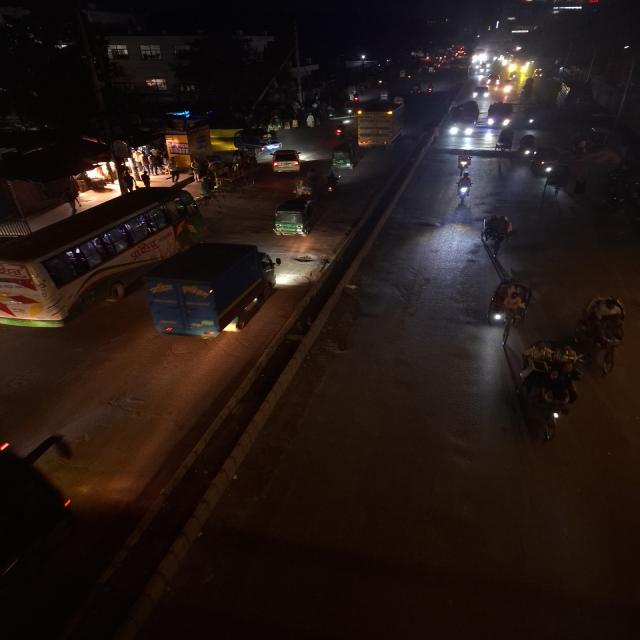bus: (0, 185, 209, 330)
car: (446, 99, 481, 139), (269, 148, 306, 174), (486, 100, 517, 128), (470, 84, 492, 100)
cng: (0, 413, 81, 640), (271, 196, 317, 239), (528, 145, 562, 180), (328, 145, 355, 171), (493, 126, 515, 156), (517, 133, 538, 161)
motorcycle: (451, 171, 476, 207), (322, 170, 342, 199), (451, 152, 476, 174), (332, 122, 348, 140), (524, 111, 538, 129)
rickshaw: (516, 337, 585, 445), (573, 293, 629, 381), (486, 277, 536, 331), (477, 212, 517, 258), (492, 126, 516, 154), (519, 132, 539, 162), (524, 110, 539, 129)
truck: (139, 240, 276, 342), (356, 103, 409, 153)
